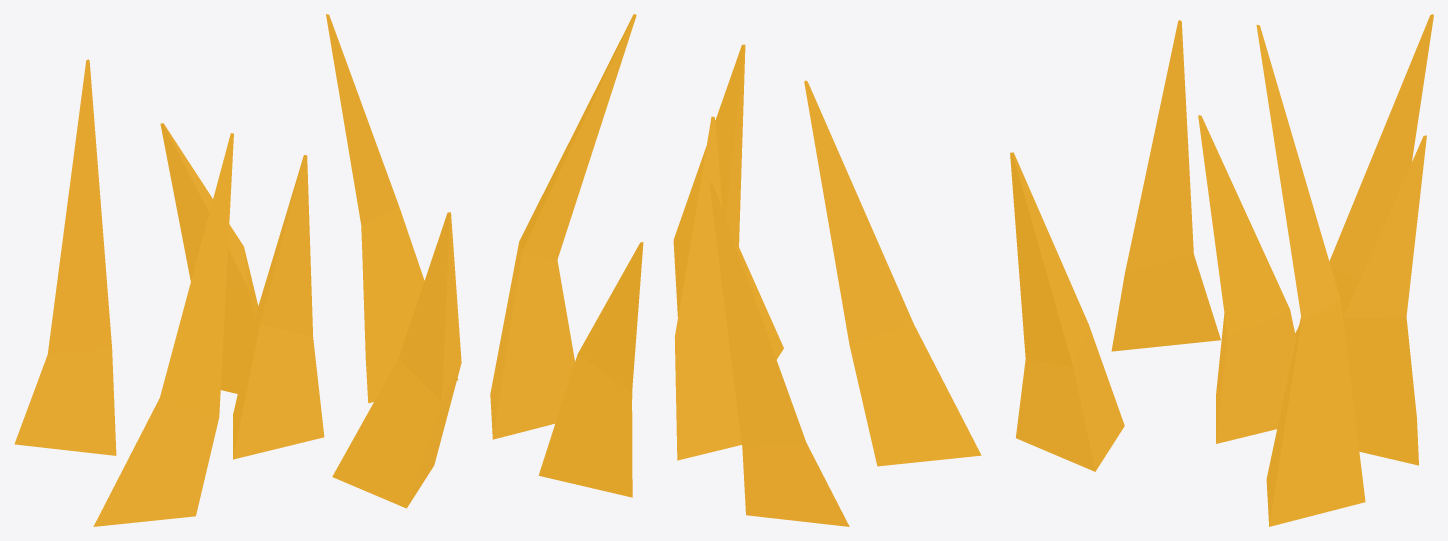
File: Grass.glb
3 renders of one model, left to right at view 1: azimuth 30°, elevation 25°; view 2: azimuth 150°, elevation 25°; view 3: azimuth 270°, elevation 25°, orthographic. The views are drawn at different scales.
Parts seen in each view (by area): view 1: GrassClump; view 2: GrassClump; view 3: GrassClump.
Boxes of the visible parts, x1,y1,x2,y2 form: GrassClump: (14, 14, 461, 526); GrassClump: (490, 14, 981, 526); GrassClump: (1010, 14, 1433, 526).
Bounding box in the file's own units: 0.5134 × 0.4658 × 0.4159.
